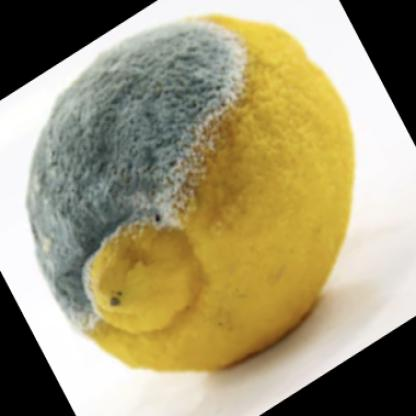rotten: (29, 15, 356, 375)
